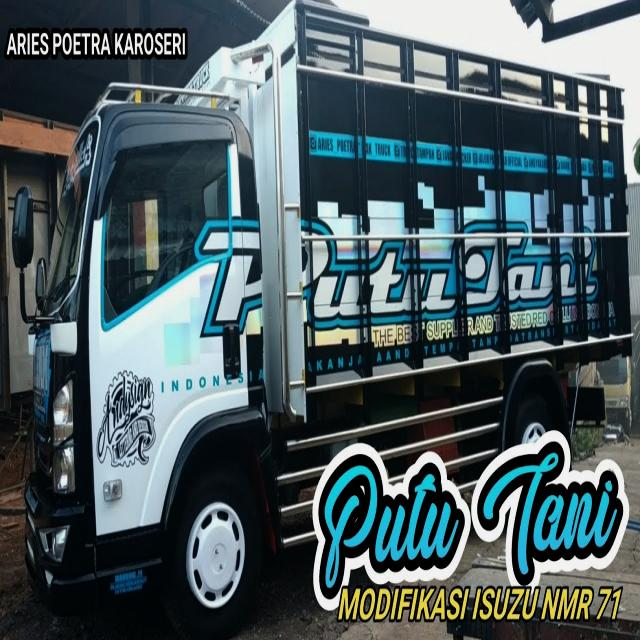truck: (22, 1, 629, 626)
